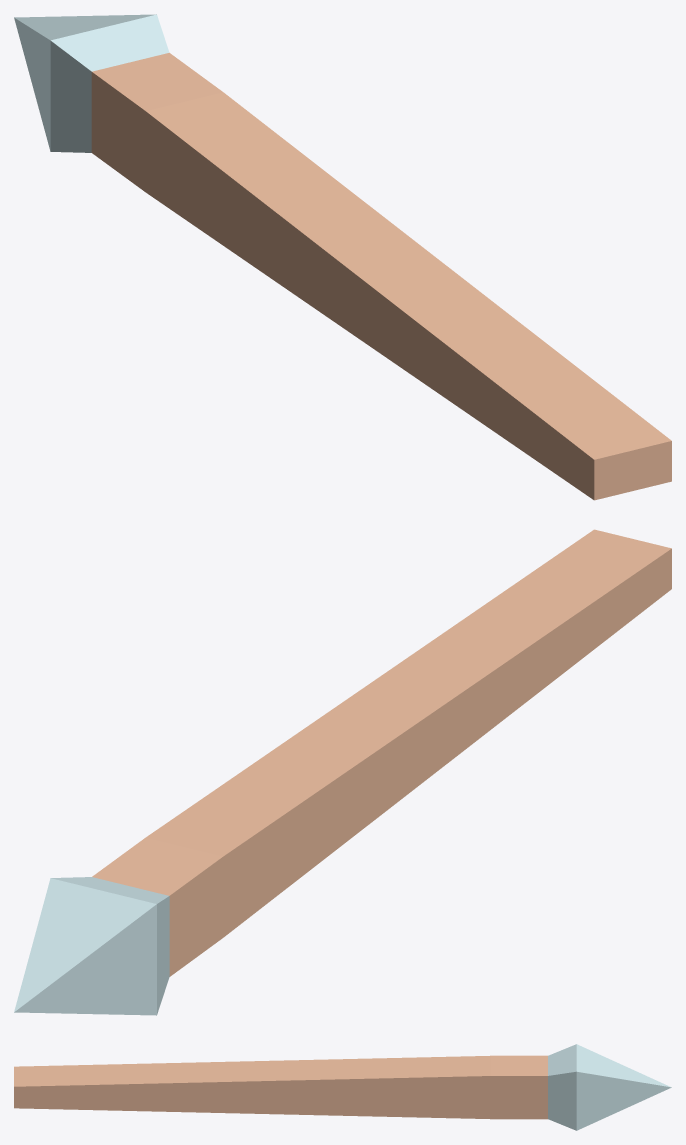
Rendered from ballista_projectile.glb.
3 renders of one model, top to bottom at view 1: azimuth 30°, elevation 25°; view 2: azimuth 150°, elevation 25°; view 3: azimuth 270°, elevation 25°, orthographic. The views are drawn at different scales.
Parts seen in each view (by area): view 1: arrow; view 2: arrow; view 3: arrow.
Boxes of the visible parts, x1=… form: arrow: x1=14, y1=14, x2=671, y2=500; arrow: x1=14, y1=529, x2=671, y2=1015; arrow: x1=14, y1=1044, x2=671, y2=1130.
Bounding box in the file's own units: 0.0685 × 0.0685 × 0.69.
